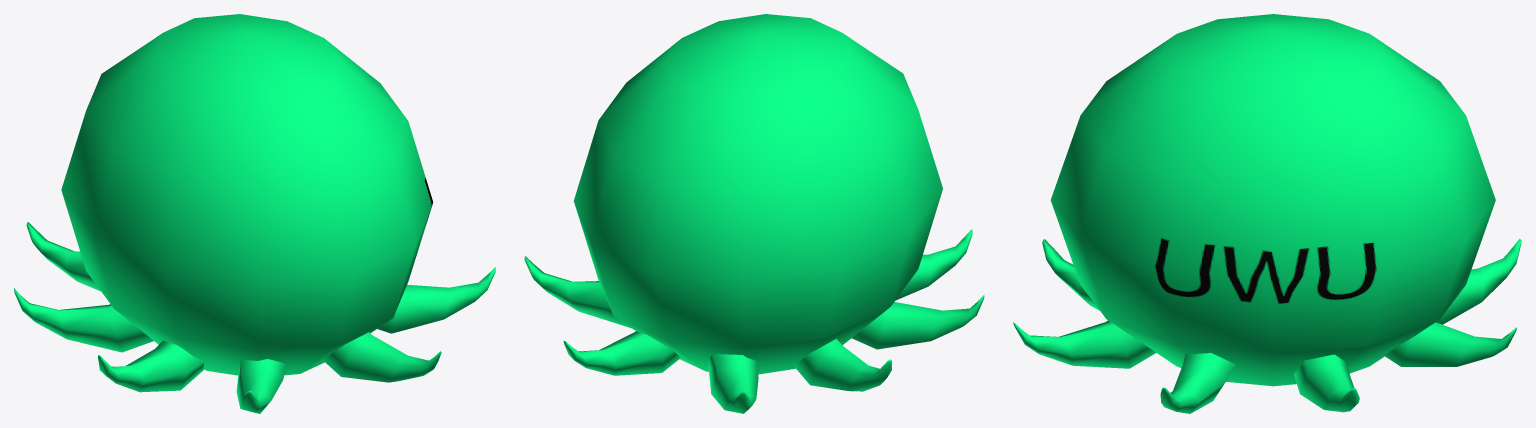
Rendered from Octopus Blob UWU GREEN.fbx.
The picture shows the model from 3 angles, left to right: view 1: azimuth 30°, elevation 25°; view 2: azimuth 150°, elevation 25°; view 3: azimuth 270°, elevation 25°; orthographic projection. The views are drawn at different scales.
Visible parts, largest first — view 1: Cylinder006; view 2: Cylinder006; view 3: Cylinder006.
Part boxes in pixels (left/top/right/bottom): Cylinder006: left=14, top=14, right=495, bottom=413; Cylinder006: left=524, top=14, right=984, bottom=413; Cylinder006: left=1013, top=14, right=1521, bottom=413.
Bounding box in the file's own units: 17.84 × 13.75 × 19.36.
1 material, 1 textured.
